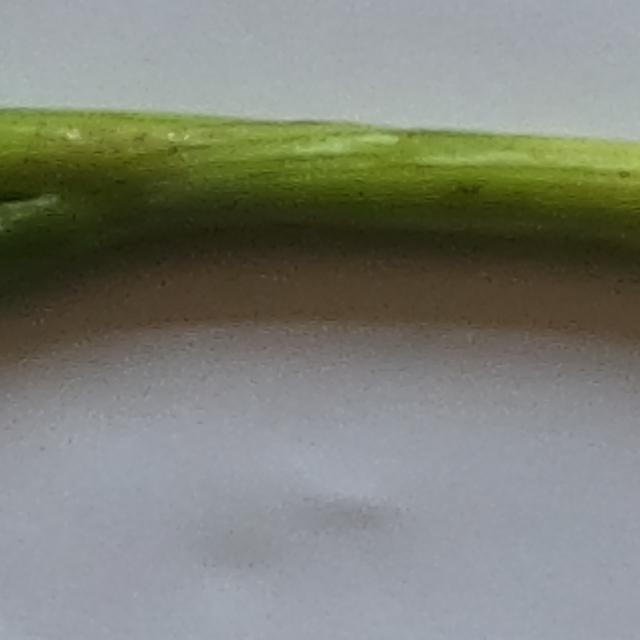green_onion: (0, 109, 640, 328)
